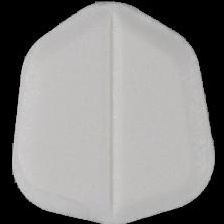0173-0633: (0, 0, 224, 224)
